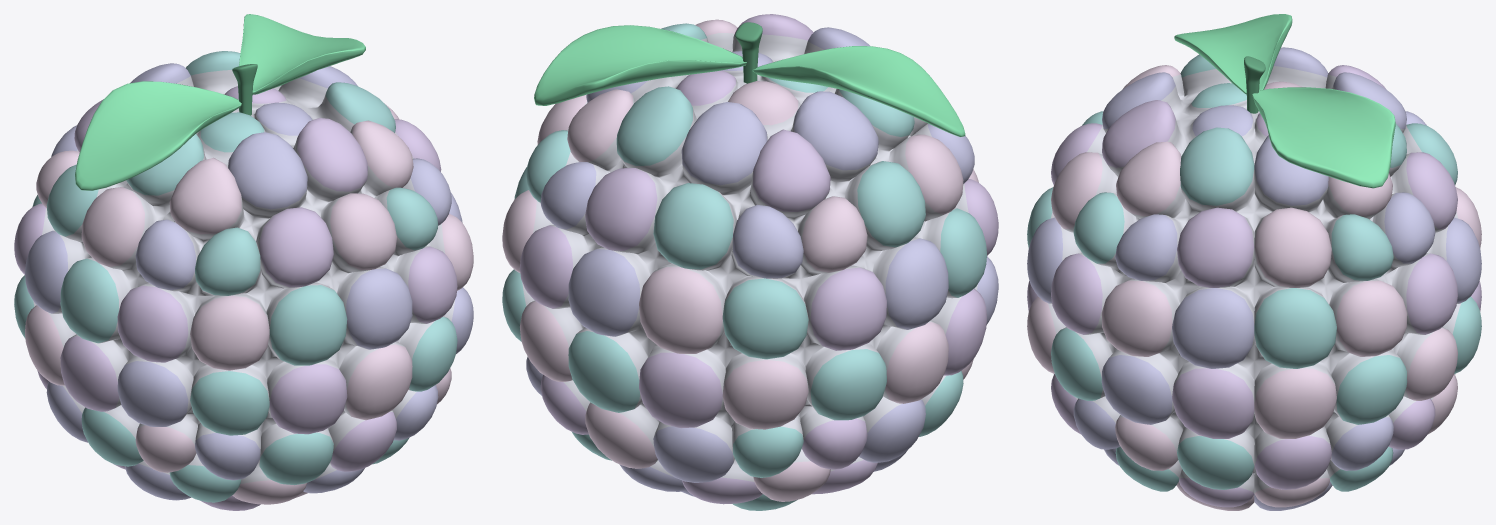
The model's file is Berry3.fbx.
3 views of the same model, side by side, from view 1: azimuth 30°, elevation 25°; view 2: azimuth 150°, elevation 25°; view 3: azimuth 270°, elevation 25° (orthographic). The views are drawn at different scales.
Visible parts, largest first — view 1: pPlane3; view 2: pPlane3; view 3: pPlane3.
Boxes of the visible parts, box(x1,y1,x2,y2) form: pPlane3: box(14, 14, 473, 510); pPlane3: box(502, 14, 998, 510); pPlane3: box(1027, 14, 1481, 510).
Bounding box in the file's own units: 4.78 × 5.1 × 4.78.
